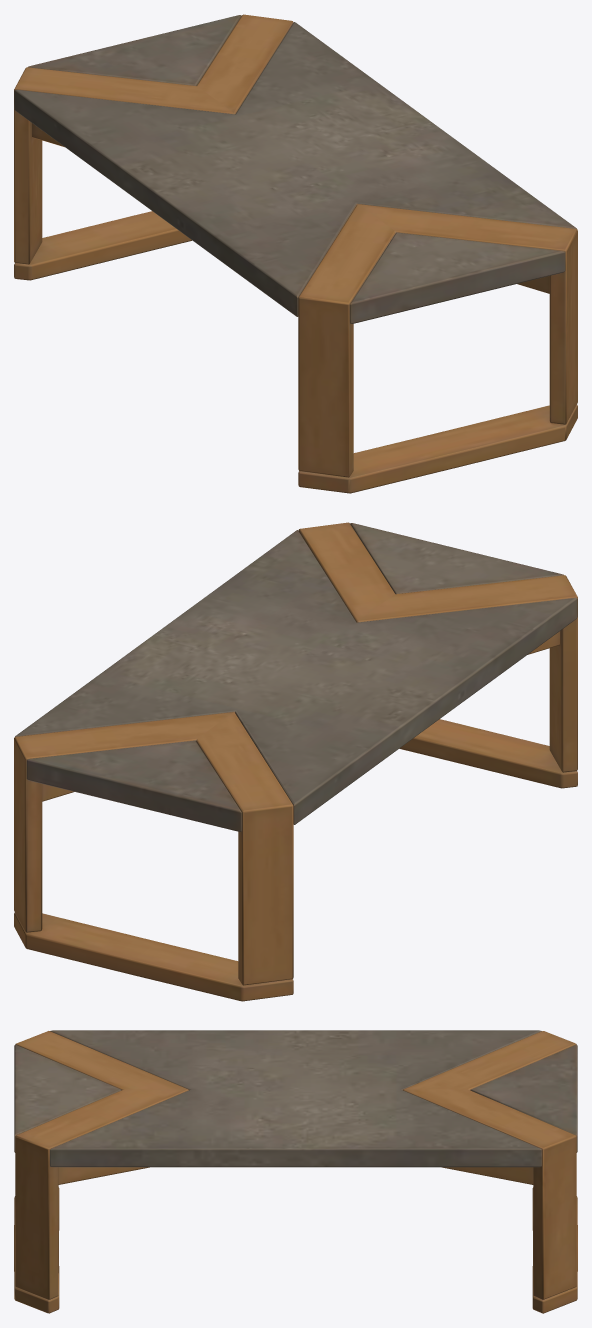
The model's file is modern_coffee_table_01.glb.
3 views of the same model, one above another, from view 1: azimuth 30°, elevation 25°; view 2: azimuth 150°, elevation 25°; view 3: azimuth 270°, elevation 25° (orthographic). The views are drawn at different scales.
Parts seen in each view (by area): view 1: modern_coffee_table_01; view 2: modern_coffee_table_01; view 3: modern_coffee_table_01.
Part boxes in pixels (x1,y1,x2,y2): modern_coffee_table_01: [14, 14, 577, 493]; modern_coffee_table_01: [14, 522, 577, 1001]; modern_coffee_table_01: [14, 1030, 577, 1313].
Bounding box in the file's own units: 0.5999 × 0.39 × 1.2.
Materials: 1 (1 with a texture image).
